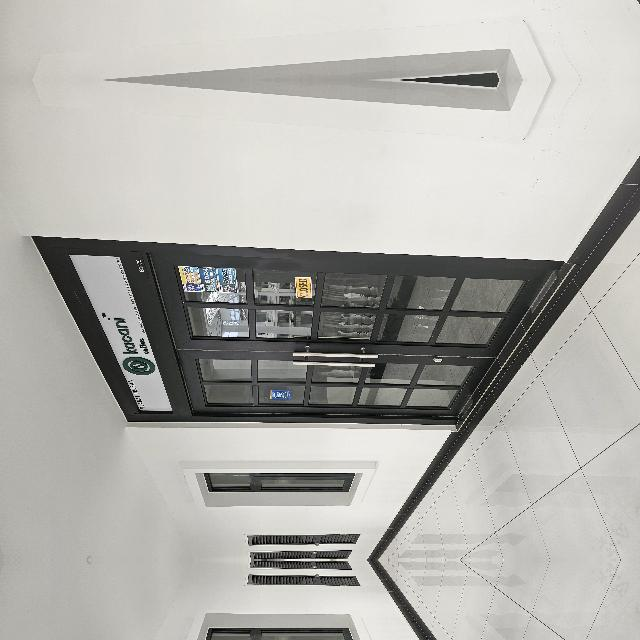door: (141, 226, 311, 640), (141, 476, 311, 640)
